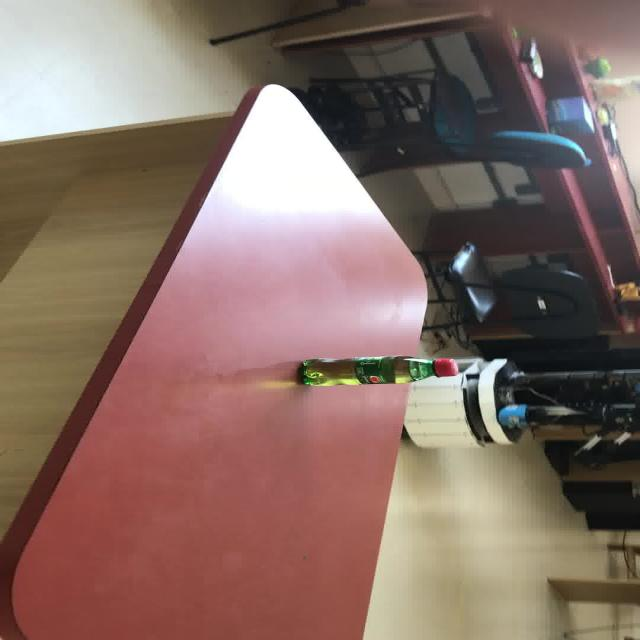guarana: (296, 354, 458, 386)
